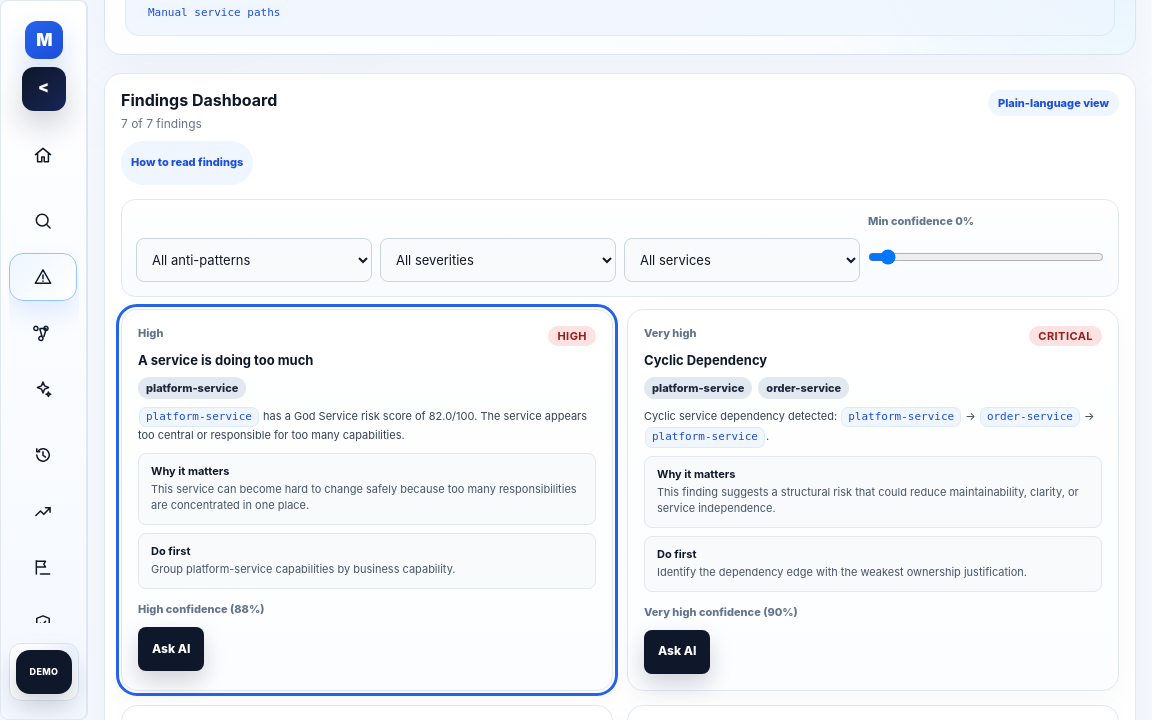
Scenario: keyboard use › opens a finding from its card with the keyboard, keeps focus in the drawer, and Esc returns focus
(page scrolled)
Click the button with class "findingCardOpen" showing "A service is doing too much".
click(226, 360)  # box x1=138 y1=352 x2=313 y2=369
(page scrolled)
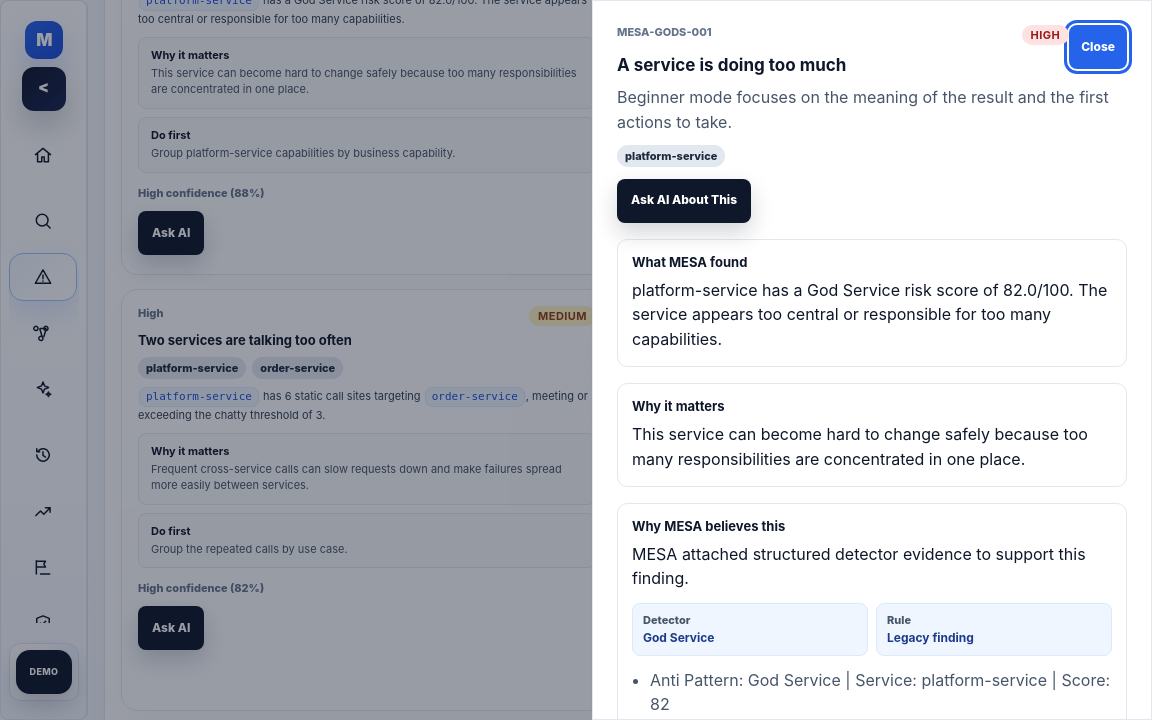
# Shift+Tab from the first control wraps to the last one inside the drawer.
Press Tab
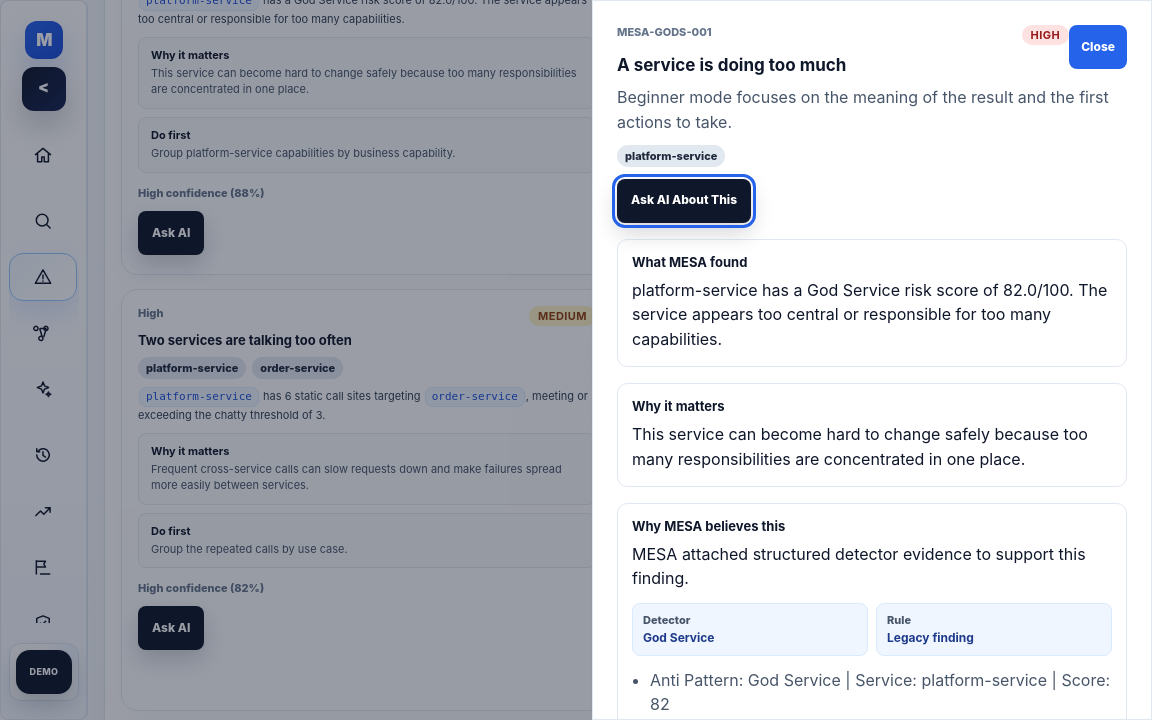
Press Escape
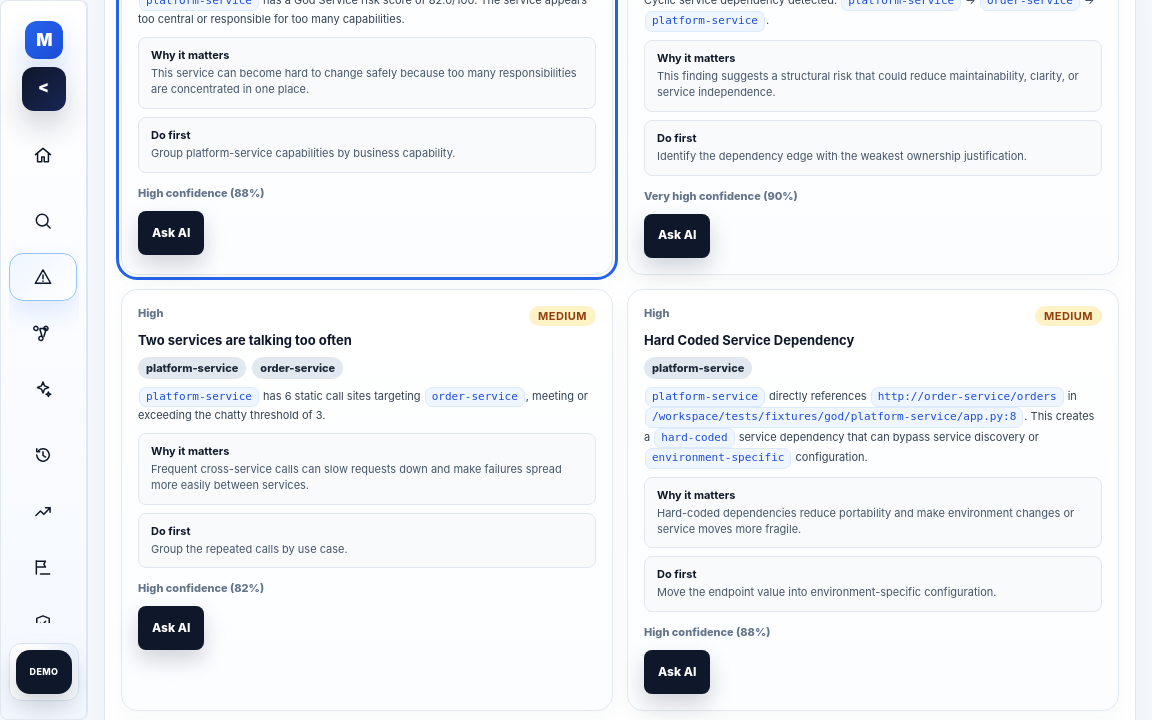
Check: the dialog with class "drawer" is gone
